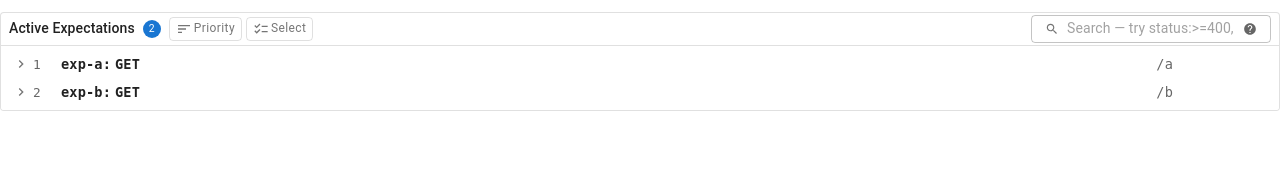
Test case: ExpectationPanel › bulk select + delete › reveals checkboxes and a bulk toolbar when Select mode is enabled
This screenshot has width=1280, height=172.
Click the button with aria-label "Select expectations". click: click(280, 29)
box: [246,17,313,41]
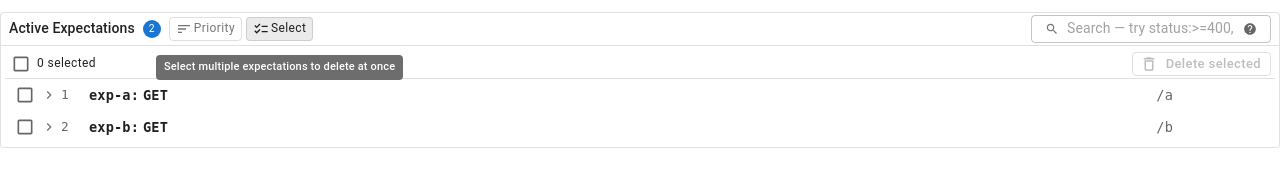
expect the element with test id "expectation-bulk-toolbar" is shown: met, box [5,50,1275,79]
expect the checkbox named "Select expectation 1" is shown: met, box [15,85,35,105]
expect the checkbox named "Select expectation 2" is shown: met, box [15,117,35,137]
